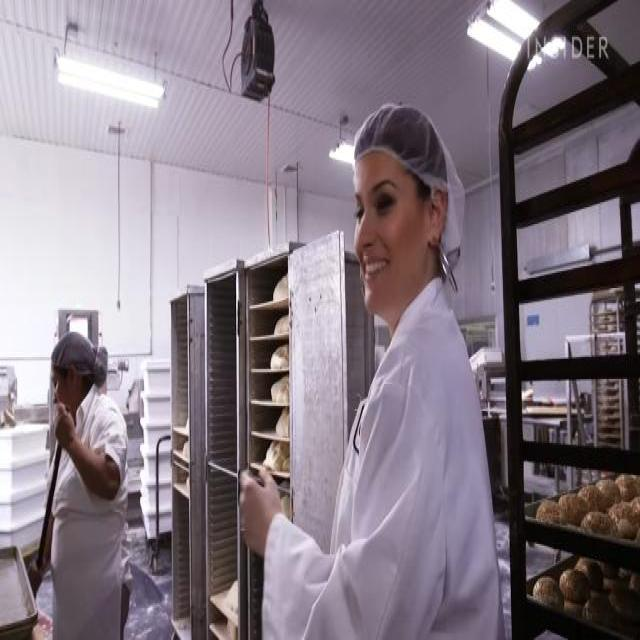hairnet: (355, 108, 455, 185), (52, 332, 106, 378)
